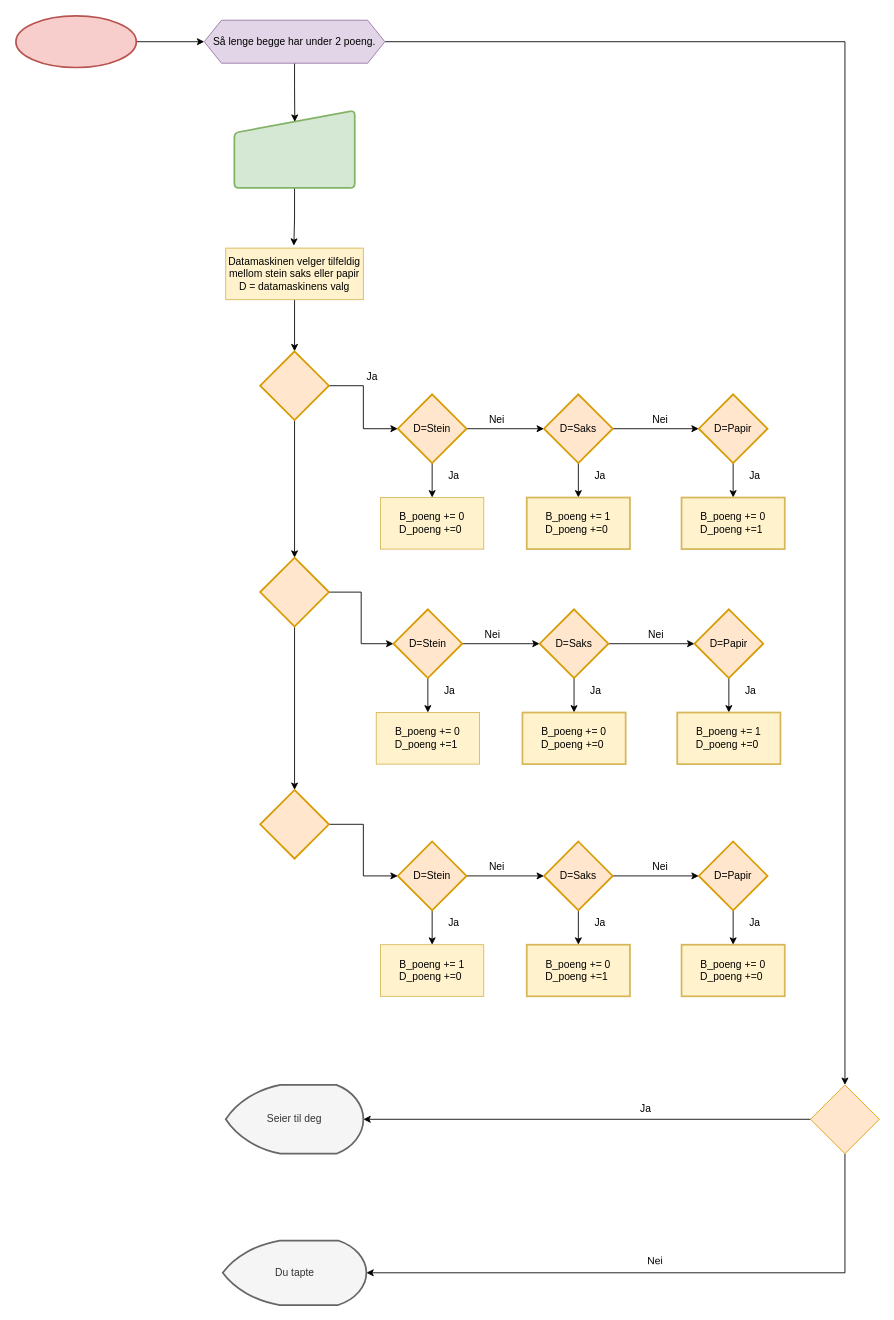
This 894x1320 diagram has some shape labels left out. The shapes that lost their labels are listed below. From the top down, each one's centre as x and y in pixels, then its label:
(76,41): Start
(294,148): Bruker velger stein, saks eller papir. B=brukerens valg
(294,385): B = Stein
(294,591): B = Saks
(294,824): B = Papir
(844,1119): B_poeng=2
